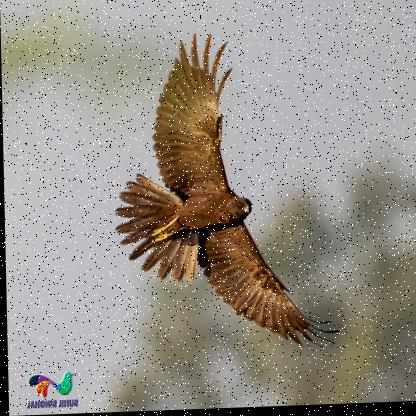Burung: (107, 27, 337, 359)
